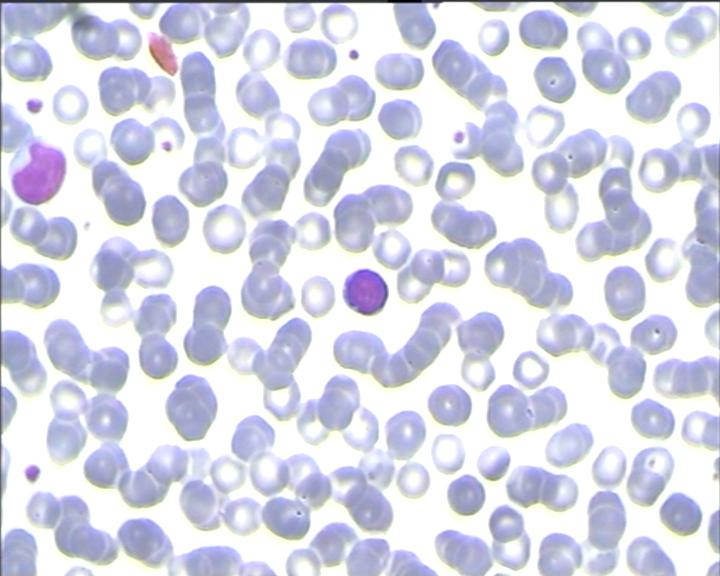lymp: (7, 132, 69, 211), (336, 265, 395, 321)
